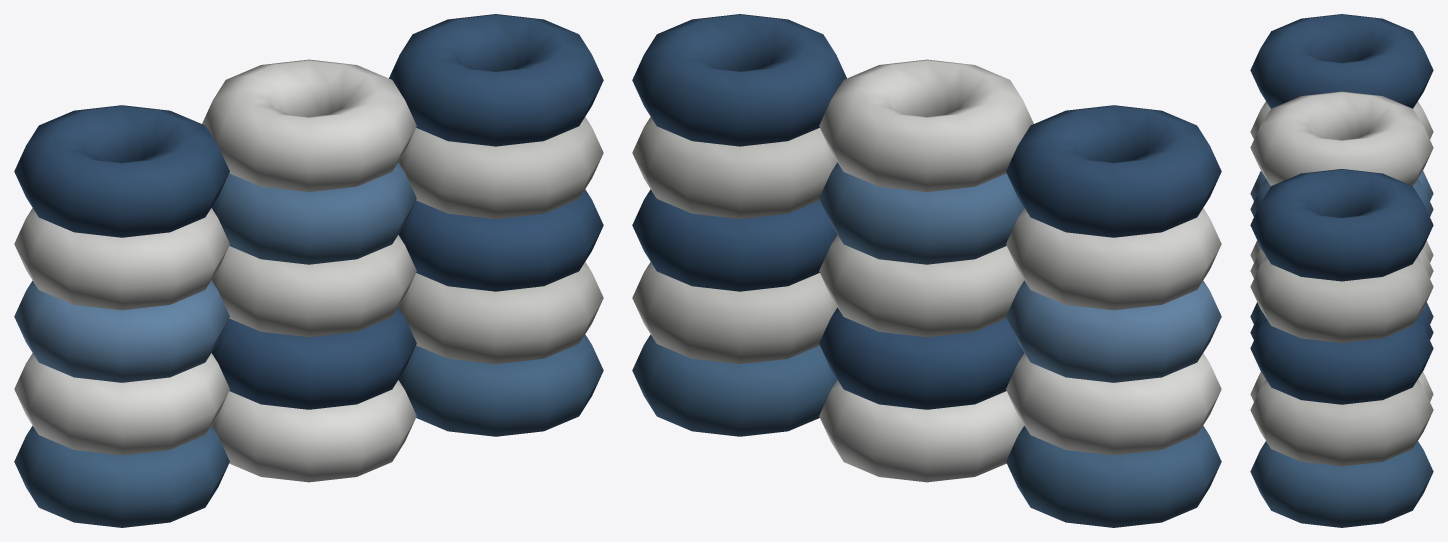
The model's file is barrier_tire_navy_white_01.glb.
3 views of the same model, side by side, from view 1: azimuth 30°, elevation 25°; view 2: azimuth 150°, elevation 25°; view 3: azimuth 270°, elevation 25° (orthographic). The views are drawn at different scales.
Visible parts, largest first — view 1: barrier_tire_navy_white_01_visual; view 2: barrier_tire_navy_white_01_visual; view 3: barrier_tire_navy_white_01_visual.
Part boxes in pixels (x1,y1,x2,y2): barrier_tire_navy_white_01_visual: (14, 14, 603, 527); barrier_tire_navy_white_01_visual: (632, 14, 1221, 527); barrier_tire_navy_white_01_visual: (1250, 14, 1433, 527).
Size of the model in its own units: 1.86 by 1.15 by 0.62.
